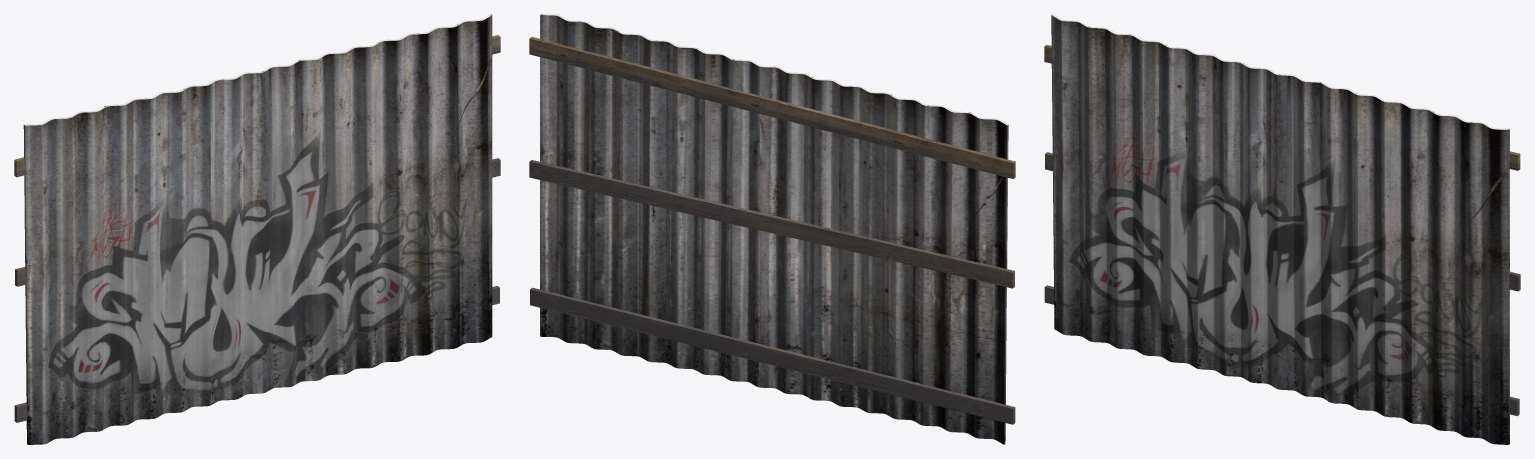
Rendered from fence_panelstyle_a.fbx.
3 views of the same model, side by side, from view 1: azimuth 30°, elevation 25°; view 2: azimuth 150°, elevation 25°; view 3: azimuth 330°, elevation 25° (orthographic). The views are drawn at different scales.
Parts seen in each view (by area): view 1: fence_panelstyle_a; view 2: fence_panelstyle_a; view 3: fence_panelstyle_a.
Boxes of the visible parts, box(x1,y1,x2,y2) form: fence_panelstyle_a: box(14, 14, 500, 444); fence_panelstyle_a: box(529, 14, 1015, 444); fence_panelstyle_a: box(1044, 14, 1520, 444).
Size of the model in its own units: 4 by 2.57 by 0.0914.
Materials: 2 (2 with a texture image).
